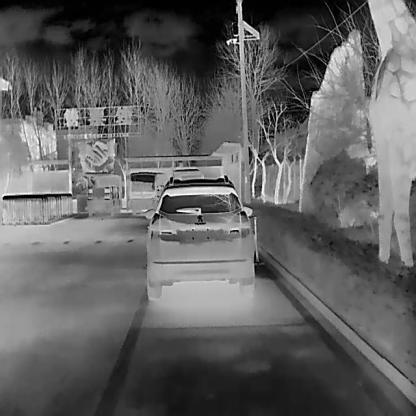car: (143, 175, 256, 300), (81, 171, 122, 216), (127, 171, 163, 215), (172, 167, 203, 179)
